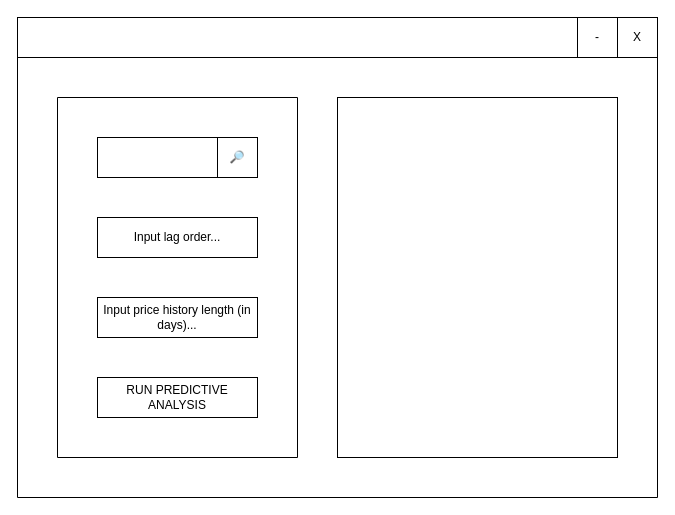
The diagram is 675 pixels wide and 515 high, and some of its shapes have lost their labels. The shapes that lost their labels are listed below. From the top down, each one's box as (x1, y1, x2, y2) in pixels, then its label:
(16, 16, 578, 58): Predictive Analysis Engine
(96, 136, 218, 178): Search for stocks...
(336, 96, 618, 458): (graph goes here)
